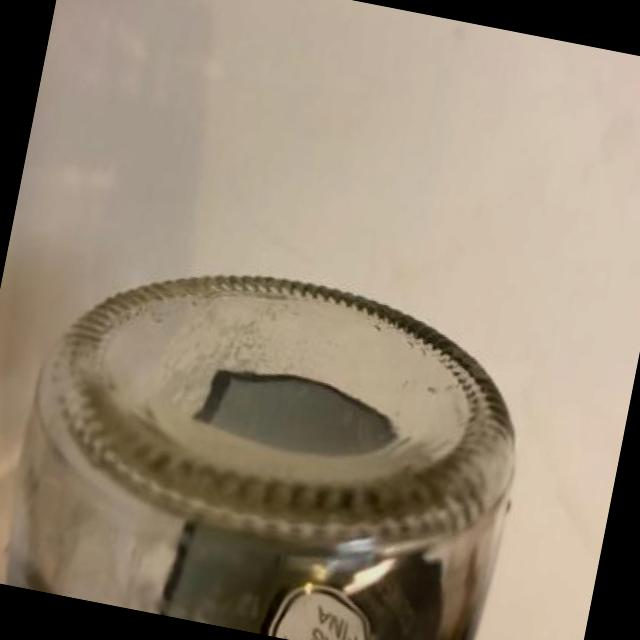chai_thuy_tinh: (1, 276, 518, 640)
